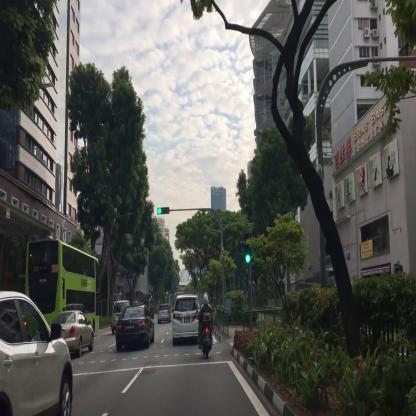green_traffic_light: (156, 206, 170, 214)
